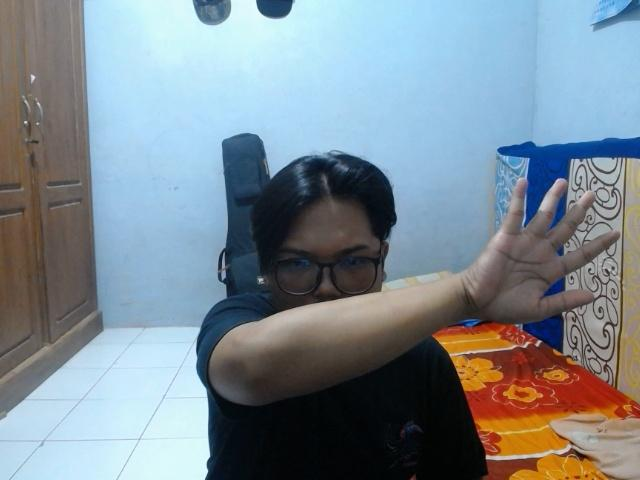Release: (459, 171, 628, 330)
